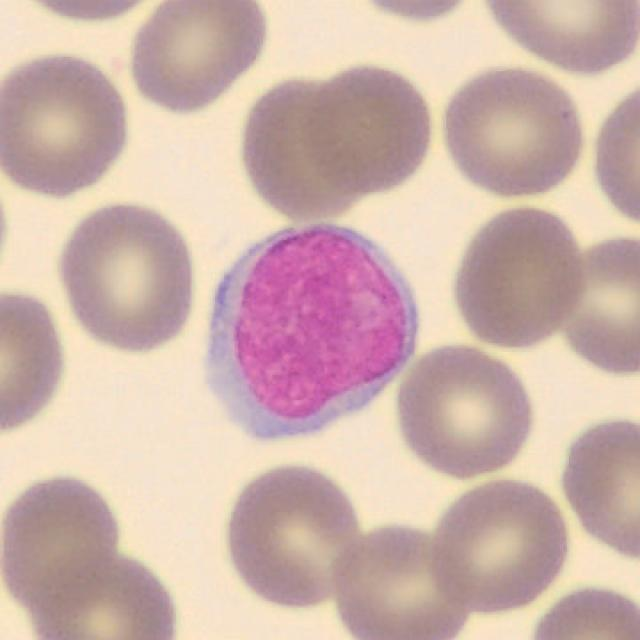Linfocito: (204, 224, 421, 443)
